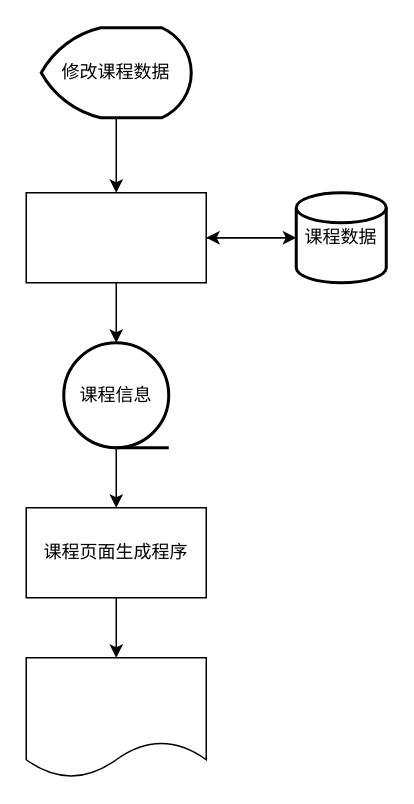
Some shapes in this 414 by 804 pixel diagram are drawn without their labels. Each missing label, with the box of its shape:
课程管理程序: (25, 191, 206, 283)
课程管理页面: (25, 656, 206, 778)
